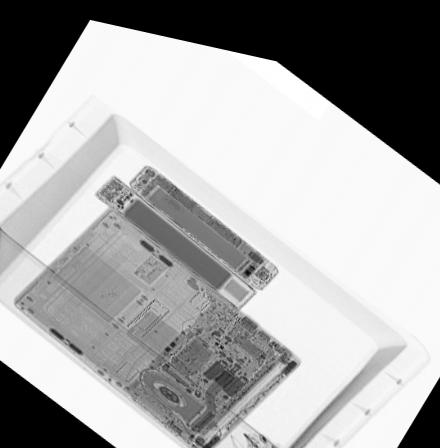Powerbank: (93, 168, 258, 299)
